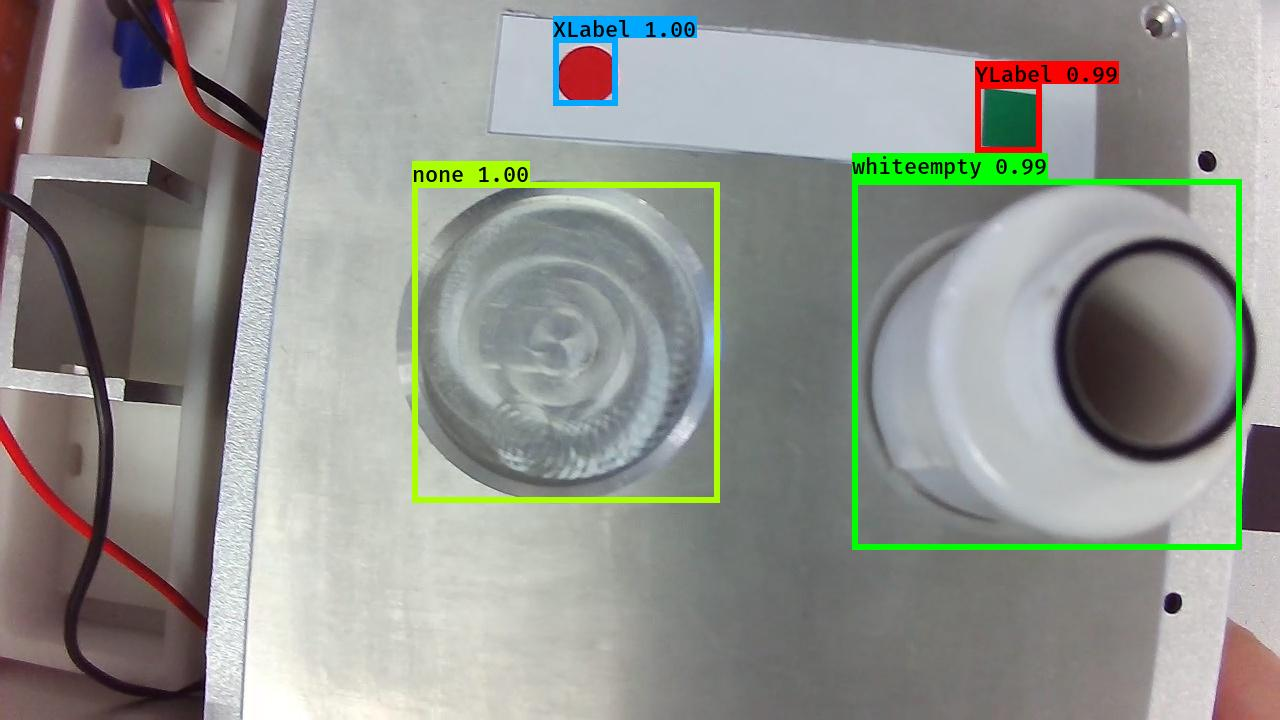XLabel: (555, 44, 620, 110)
YLabel: (978, 86, 1045, 157)
none: (387, 172, 726, 506)
whiteempty: (854, 180, 1263, 556)
